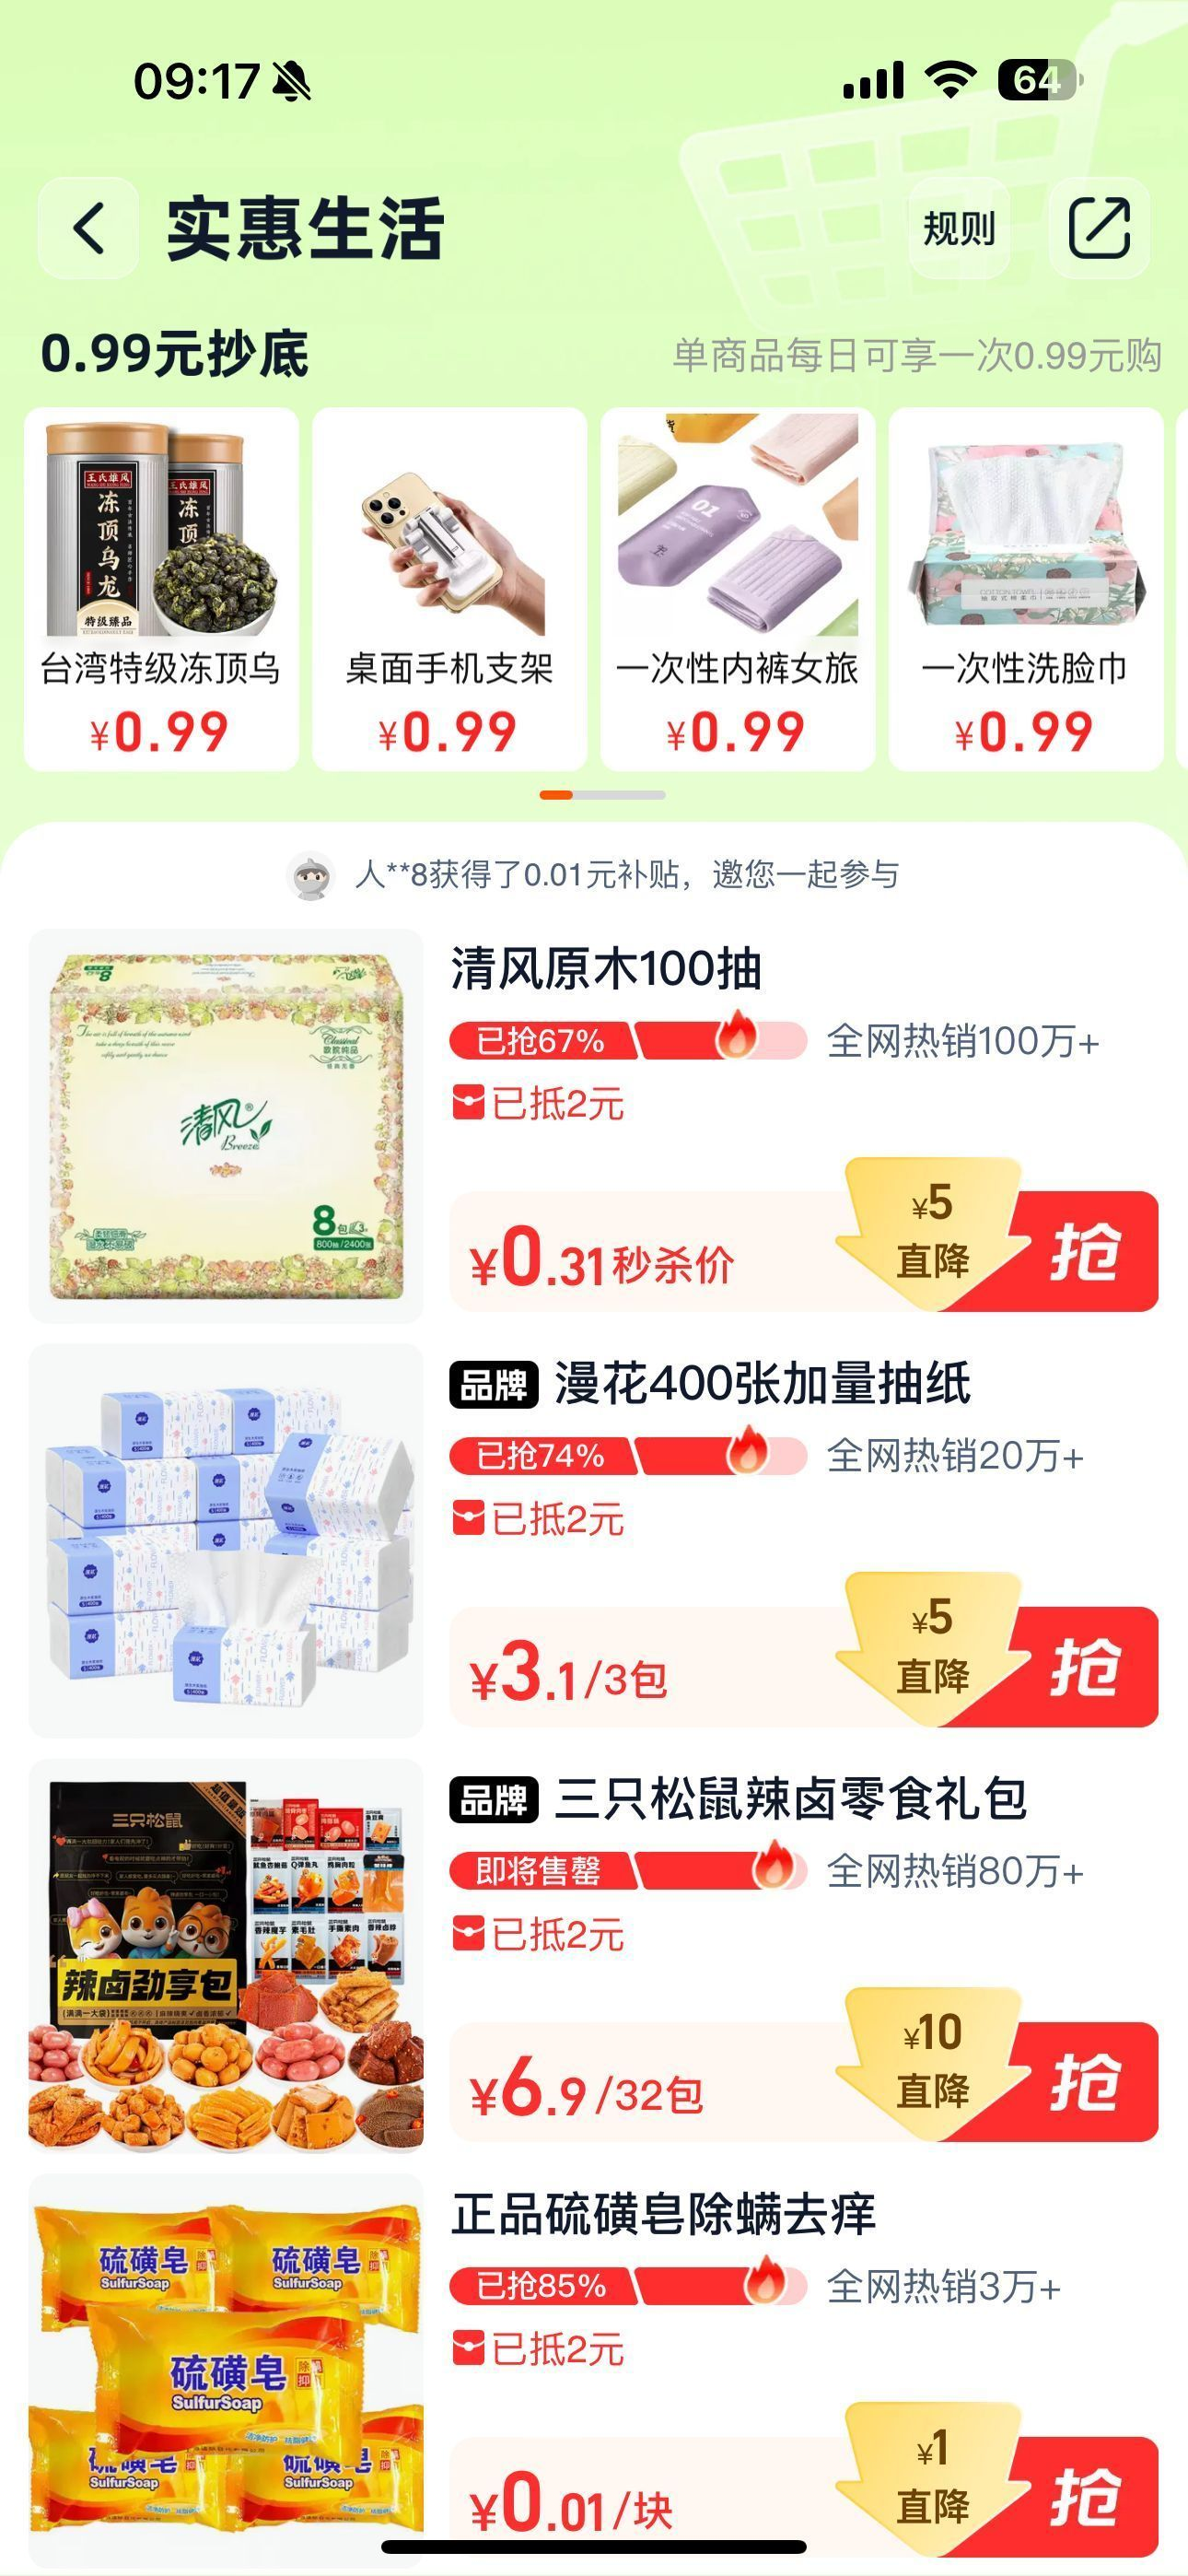item: (3, 913, 1183, 1344), (20, 1341, 1188, 1764), (5, 1768, 1181, 2187), (5, 2192, 1178, 2563)
op_bar: (5, 164, 1188, 314)
seckill: (12, 384, 1181, 798)
